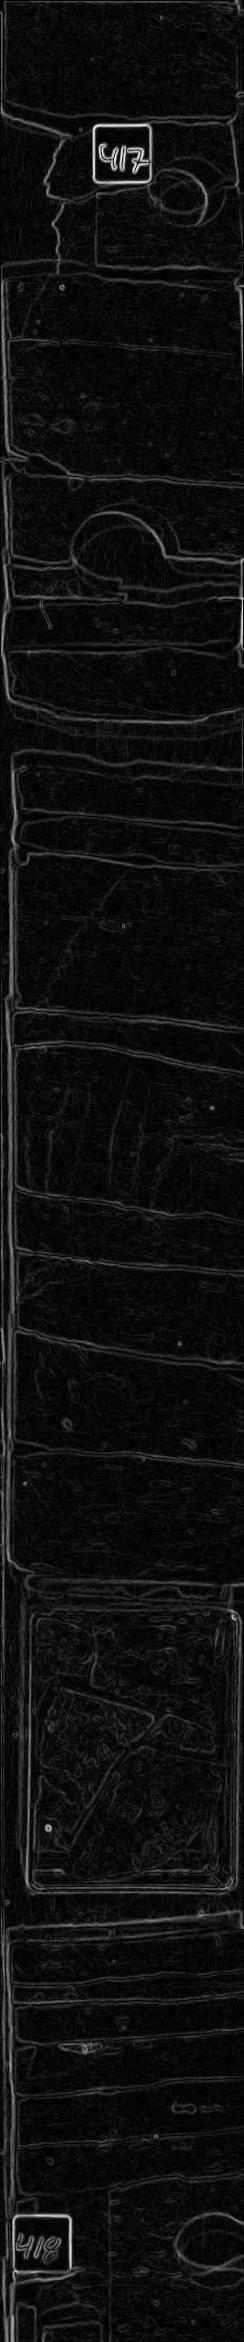hplug: (135, 152, 235, 233), (168, 2203, 244, 2296)
scal: (60, 496, 177, 606)
vplug: (1, 111, 103, 294), (33, 2181, 118, 2342)
